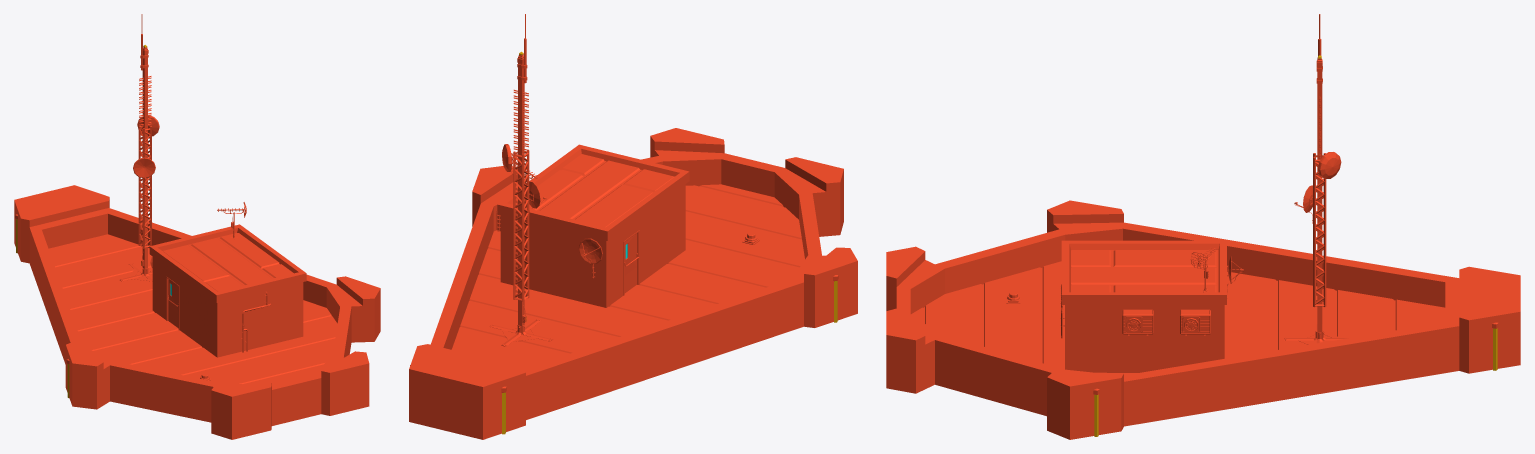
The model's file is SM_Skyscraper_C_Roof_Small_City.fbx.
3 views of the same model, side by side, from view 1: azimuth 30°, elevation 25°; view 2: azimuth 150°, elevation 25°; view 3: azimuth 270°, elevation 25° (orthographic). The views are drawn at different scales.
Visible parts, largest first — view 1: SM_Skyscraper_C_Roof_Small_City; view 2: SM_Skyscraper_C_Roof_Small_City; view 3: SM_Skyscraper_C_Roof_Small_City.
Boxes of the visible parts, box(x1,y1,x2,y2) form: SM_Skyscraper_C_Roof_Small_City: box(14, 14, 380, 439); SM_Skyscraper_C_Roof_Small_City: box(409, 14, 857, 439); SM_Skyscraper_C_Roof_Small_City: box(886, 14, 1520, 439).
Bounding box in the file's own units: 15.58 × 13.4 × 22.43.
